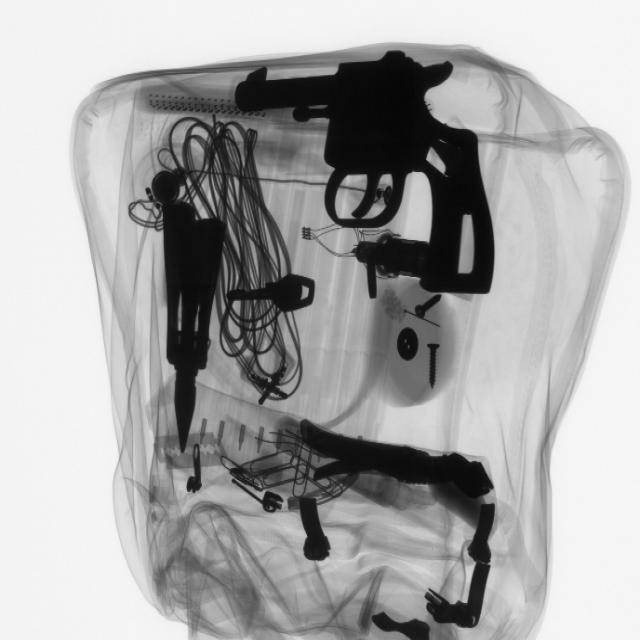GUN: (230, 55, 505, 301)
SCREW: (417, 334, 459, 398), (407, 285, 464, 332)
